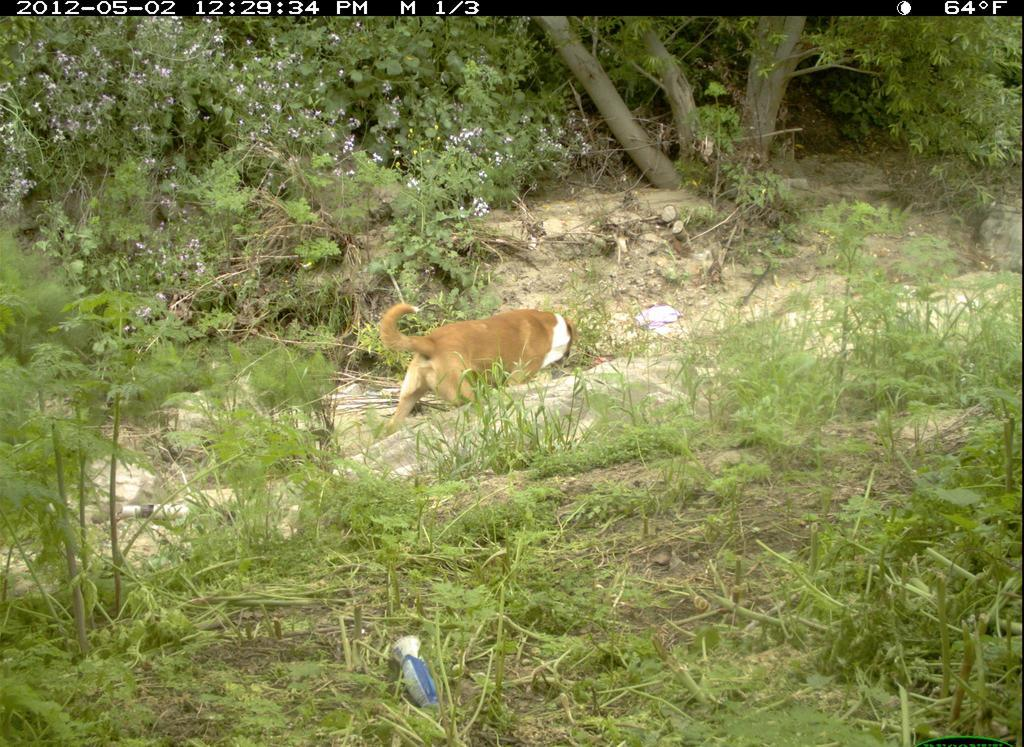dog: (374, 295, 579, 434)
